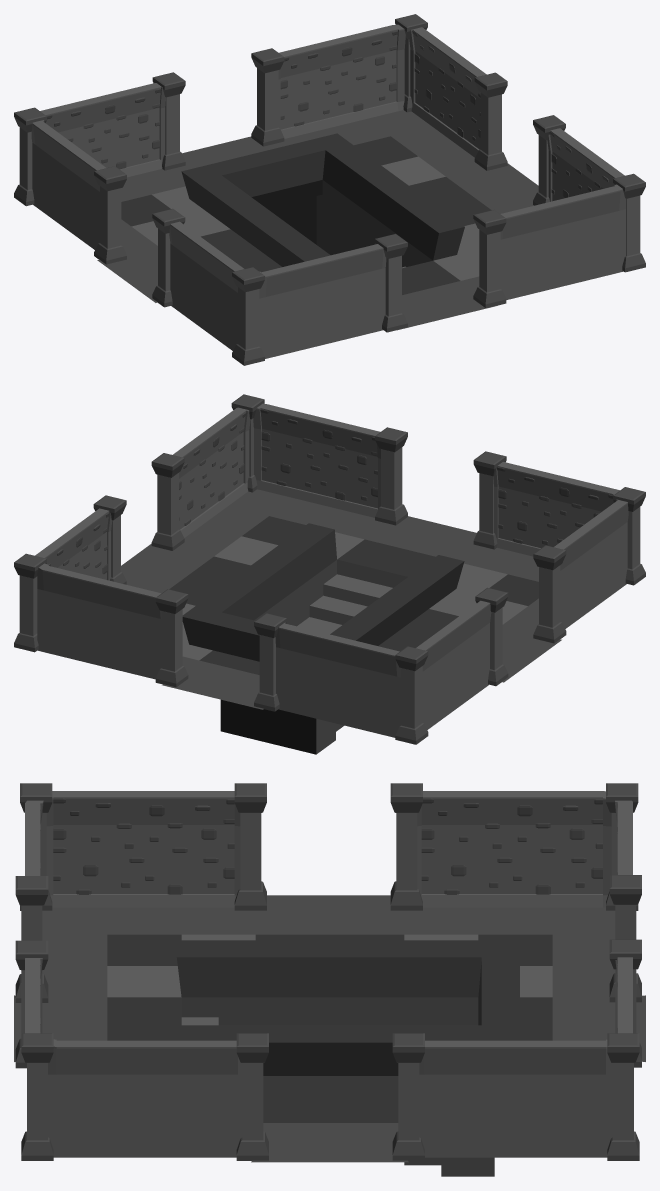
The model's file is StoneFloorRoomVar3.fbx.
3 views of the same model, one above another, from view 1: azimuth 30°, elevation 25°; view 2: azimuth 150°, elevation 25°; view 3: azimuth 270°, elevation 25° (orthographic). The views are drawn at different scales.
Parts seen in each view (by area): view 1: StoneWallRoomVar3, StoneFloorRoomVar3; view 2: StoneWallRoomVar3, StoneFloorRoomVar3; view 3: StoneWallRoomVar3, StoneFloorRoomVar3.
Part boxes in pixels (box(x1,y1,x2,y2)): StoneWallRoomVar3: box(14, 14, 645, 365); StoneFloorRoomVar3: box(97, 110, 538, 330); StoneWallRoomVar3: box(14, 394, 645, 744); StoneFloorRoomVar3: box(121, 489, 561, 754); StoneWallRoomVar3: box(15, 783, 641, 1160); StoneFloorRoomVar3: box(14, 895, 645, 1176).
Size of the model in its own units: 7.96 by 3.21 by 7.96.
Materials: 1 (1 with a texture image).
